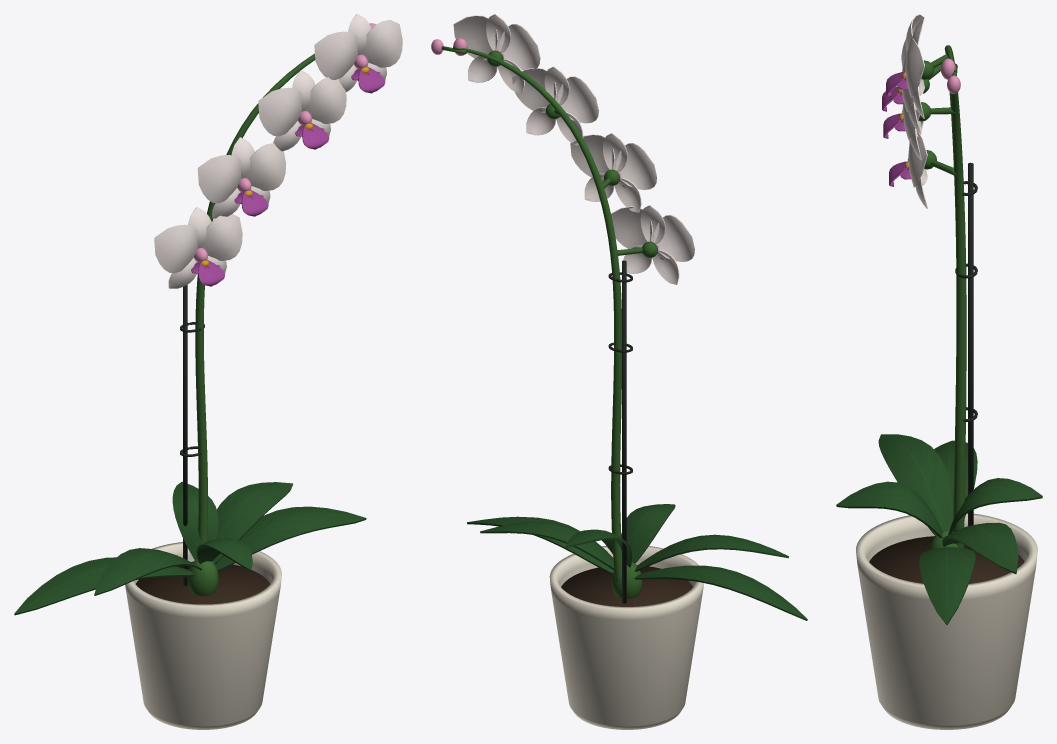
File: orchidea.glb
3 views of the same model, side by side, from view 1: azimuth 30°, elevation 25°; view 2: azimuth 150°, elevation 25°; view 3: azimuth 270°, elevation 25° (orthographic). The views are drawn at different scales.
Visible parts, largest first — view 1: Hollow tapered orchid ceramic pot, Arching orchid flower spike, Fleshy orchid leaf 1, Recessed bark growing medium, Fleshy orchid leaf 2, Fleshy orchid leaf 3, Fleshy orchid leaf 4, Fleshy orchid leaf 5, Orchid flower 3 Broad petal 4, Orchid flower 2 Broad petal 4, Orchid flower 1 Broad petal 4, Orchid flower 4 Broad petal 4 (+7 smaller); view 2: Hollow tapered orchid ceramic pot, Arching orchid flower spike, Recessed bark growing medium, Fleshy orchid leaf 2, Fleshy orchid leaf 4, Dark slender support stake, Fleshy orchid leaf 3, Fleshy orchid leaf 6, Orchid flower 2 Broad petal 4, Orchid flower 1 Broad petal 4, Orchid flower 3 Broad petal 4, Orchid flower 4 Broad petal 4 (+14 smaller); view 3: Hollow tapered orchid ceramic pot, Arching orchid flower spike, Fleshy orchid leaf 4, Fleshy orchid leaf 1, Recessed bark growing medium, Fleshy orchid leaf 6, Fleshy orchid leaf 3, Dark slender support stake, Fleshy orchid leaf 5, Fleshy orchid leaf 2, Orchid flower 4 Broad petal 5, Orchid flower 1 Broad petal 5.
Part boxes in pixels (x1,y1,x2,y2): Hollow tapered orchid ceramic pot: [125, 542, 281, 729]; Arching orchid flower spike: [195, 53, 315, 542]; Fleshy orchid leaf 1: [215, 506, 366, 571]; Recessed bark growing medium: [135, 561, 270, 604]; Fleshy orchid leaf 2: [14, 557, 194, 615]; Fleshy orchid leaf 3: [212, 482, 292, 564]; Fleshy orchid leaf 4: [94, 548, 201, 595]; Fleshy orchid leaf 5: [172, 481, 218, 560]; Orchid flower 3 Broad petal 4: [258, 87, 301, 136]; Orchid flower 2 Broad petal 4: [197, 155, 241, 203]; Orchid flower 1 Broad petal 4: [154, 224, 197, 273]; Orchid flower 4 Broad petal 4: [314, 31, 357, 79]; Hollow tapered orchid ceramic pot: [549, 546, 703, 729]; Arching orchid flower spike: [453, 47, 621, 594]; Recessed bark growing medium: [561, 565, 692, 606]; Fleshy orchid leaf 2: [634, 565, 807, 620]; Fleshy orchid leaf 4: [635, 534, 788, 571]; Dark slender support stake: [622, 260, 626, 603]; Fleshy orchid leaf 3: [480, 521, 614, 570]; Fleshy orchid leaf 6: [621, 504, 675, 563]; Orchid flower 2 Broad petal 4: [615, 143, 656, 189]; Orchid flower 1 Broad petal 4: [653, 215, 694, 261]; Orchid flower 3 Broad petal 4: [557, 76, 598, 123]; Orchid flower 4 Broad petal 4: [499, 24, 540, 70]; Hollow tapered orchid ceramic pot: [856, 513, 1037, 729]; Arching orchid flower spike: [944, 45, 966, 548]; Fleshy orchid leaf 4: [878, 434, 952, 535]; Fleshy orchid leaf 1: [919, 547, 975, 624]; Recessed bark growing medium: [869, 536, 1024, 583]; Fleshy orchid leaf 6: [836, 481, 942, 538]; Fleshy orchid leaf 3: [942, 522, 1018, 573]; Dark slender support stake: [968, 162, 973, 550]; Fleshy orchid leaf 5: [948, 478, 1042, 534]; Fleshy orchid leaf 2: [934, 440, 977, 523]; Orchid flower 4 Broad petal 5: [905, 37, 924, 97]; Orchid flower 1 Broad petal 5: [908, 131, 927, 187].
Bounding box in the file's own units: 0.3637 × 0.6032 × 0.1475.
Materials: 9 (9 with a texture image).
